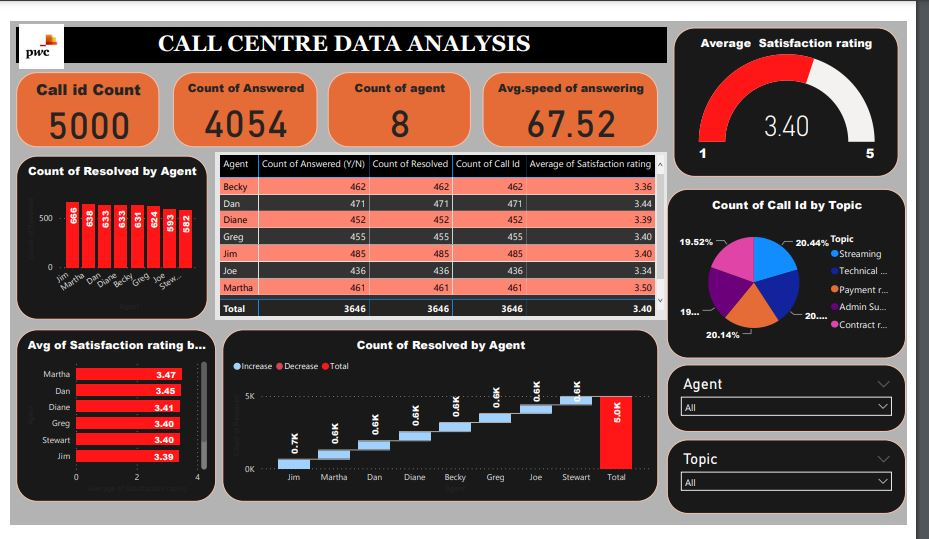

Layout of this report page (visuals, bound fields, positions):
{"tool":"powerbi","page":{"name":"Page 1","canvas":[1280,720],"ordinal":0},"visuals":[{"type":"card","title":"Count of Answered","fields":{"Values":["Sheet1.Answered (Y/N)"]},"box":[232.6,72.9,206.5,107.4],"z":0},{"type":"card","title":"Call id Count","fields":{"Values":["Sheet1.Call Id"]},"box":[9.6,72.9,203.7,107.4],"z":1000},{"type":"card","title":"Count of agent","fields":{"Values":["Sheet1.Agent"]},"box":[454.2,72.9,203.7,107.4],"z":2000},{"type":"card","title":"Avg.speed of answering","fields":{"Values":["Sheet1.Speed of answer in seconds"]},"box":[675.8,72.9,250.5,107.4],"z":3000},{"type":"gauge","title":"Average  Satisfaction rating","fields":{"Y":["Sheet1.Satisfaction rating"],"MaxValue":["Sum(Sheet1.Satisfaction rating)1"],"MinValue":["Sum(Sheet1.Satisfaction rating)2"]},"box":[948.3,9.6,320.7,213.3],"z":4000},{"type":"columnChart","fields":{"Y":["Sheet1.Resolved"],"Category":["Sheet1.Agent"]},"box":[9.6,192.7,272.6,234],"z":5000},{"type":"barChart","title":"Avg of Satisfaction rating by Agent","fields":{"Category":["Sheet1.Agent"],"Y":["Sheet1.Satisfaction rating"]},"box":[9.6,440.5,285,246.4],"z":6000},{"type":"tableEx","fields":{"Values":["Sheet1.Agent","Sheet1.Answered (Y/N)","Sheet1.Resolved","Sheet1.Call Id","Sheet1.Satisfaction rating"]},"box":[294.5,187.2,644.1,239.5],"z":7000},{"type":"pieChart","fields":{"Y":["Sheet1.Call Id"],"Category":["Sheet1.Topic"]},"box":[938.9,239.5,341.4,242.3],"z":8000},{"type":"waterfallChart","fields":{"Category":["Sheet1.Agent"],"Y":["Sheet1.Resolved"]},"box":[304.2,440.5,622.3,246.4],"z":9000},{"type":"slicer","fields":{"Values":["Sheet1.Agent"]},"box":[938.9,491.5,341.4,96.4],"z":10000},{"type":"slicer","fields":{"Values":["Sheet1.Topic"]},"box":[938.9,597.5,341.4,106],"z":11000},{"type":"textbox","box":[9.6,9.6,929,50.9],"z":12000}]}

Visuals, with their boxes in screenshot pixels (x1, y1, x2, y2):
"Count of Answered" card: 164,69,312,146
"Call id Count" card: 4,69,150,146
"Count of agent" card: 323,69,468,146
"Avg.speed of answering" card: 481,69,661,146
"Average  Satisfaction rating" gauge: 676,24,906,176
columnChart - Sheet1.Resolved x Sheet1.Agent: 4,155,200,322
"Avg of Satisfaction rating by Agent" barChart: 4,332,208,509
tableEx - Sheet1.Agent x Sheet1.Answered (Y/N): 208,151,669,322
pieChart - Sheet1.Call Id x Sheet1.Topic: 670,188,914,362
waterfallChart - Sheet1.Agent x Sheet1.Resolved: 215,332,661,509
slicer - Sheet1.Agent: 670,369,914,438
slicer - Sheet1.Topic: 670,445,914,520
textbox: 4,24,669,60
